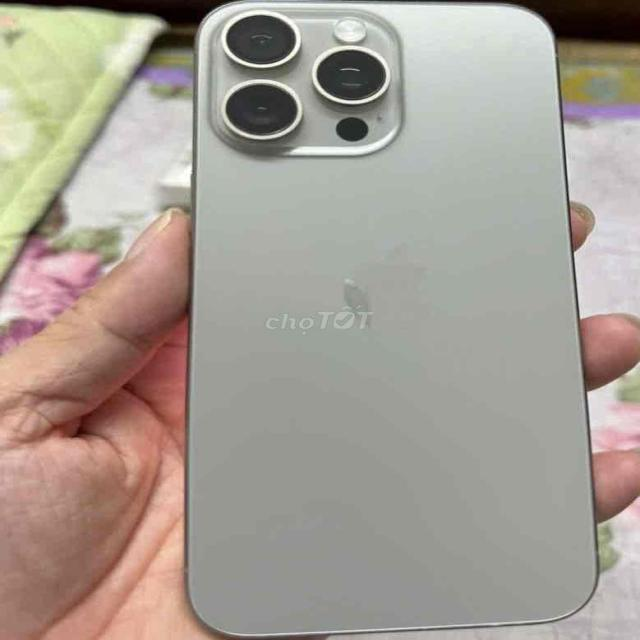gen_15: (164, 0, 619, 640)
